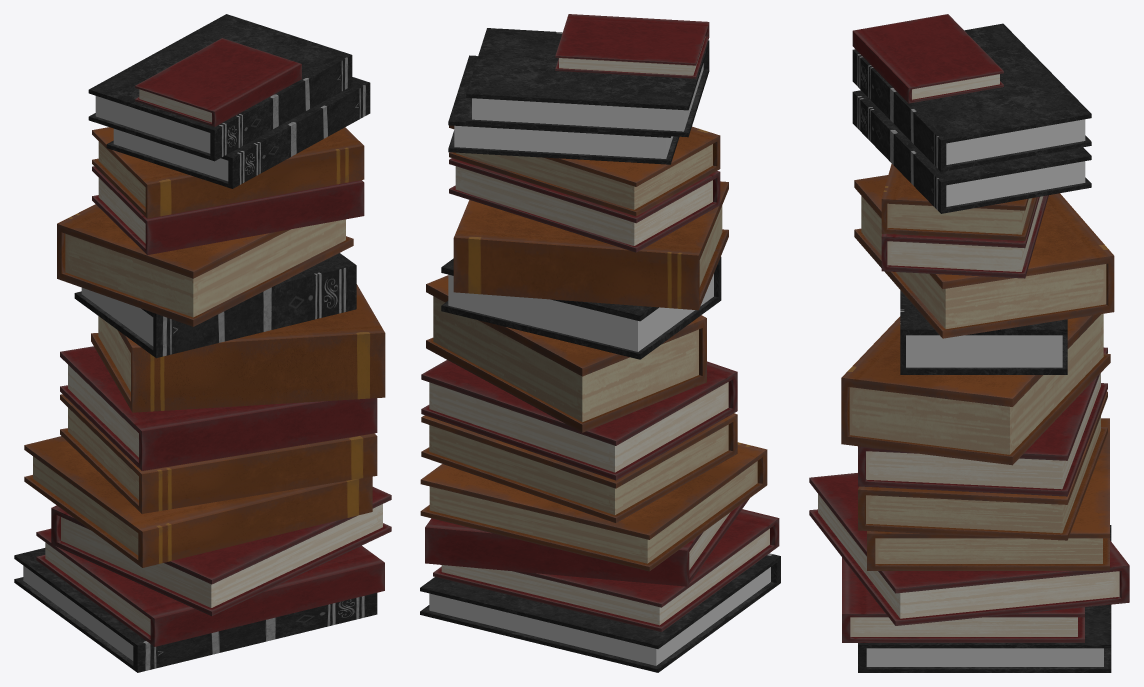
File: BookShelf_FloorStack_01.fbx
The picture shows the model from 3 angles, left to right: view 1: azimuth 30°, elevation 25°; view 2: azimuth 150°, elevation 25°; view 3: azimuth 270°, elevation 25°; orthographic projection. The views are drawn at different scales.
Parts seen in each view (by area): view 1: pCube91; view 2: pCube91; view 3: pCube91.
Boxes of the visible parts, x1,y1,x2,y2 form: pCube91: [14, 14, 391, 672]; pCube91: [420, 14, 780, 672]; pCube91: [809, 14, 1129, 672].
Bounding box in the file's own units: 1.33 × 2.46 × 1.28.
